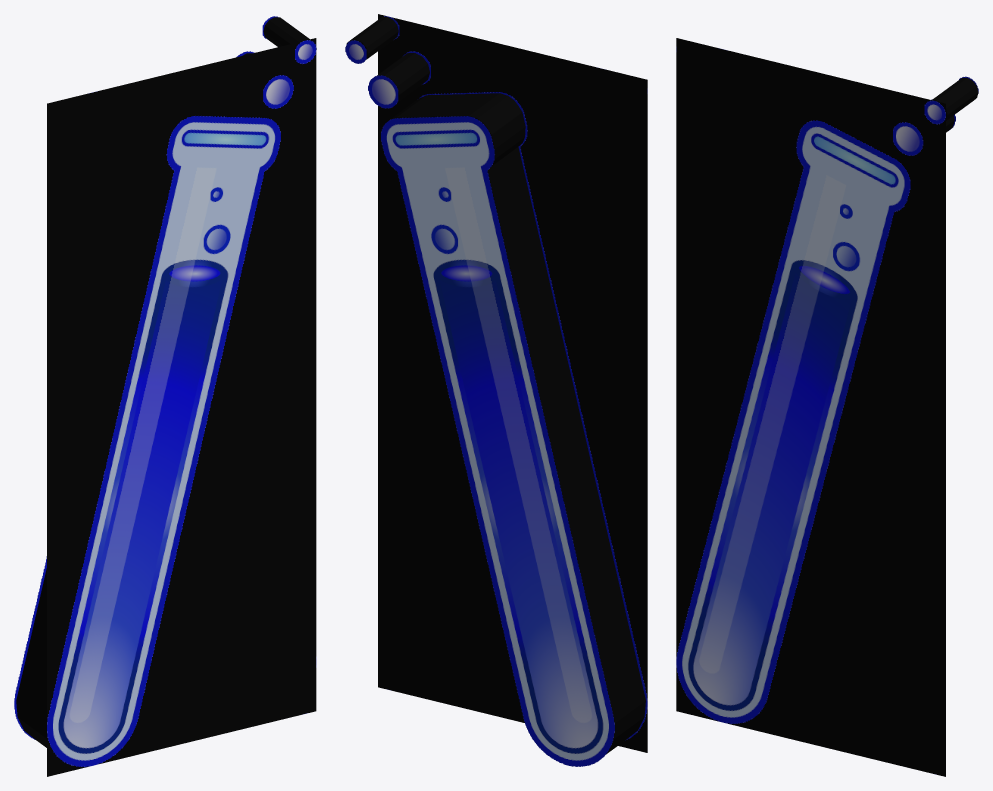
Rendered from item_m1.fbx.
3 renders of one model, left to right at view 1: azimuth 30°, elevation 25°; view 2: azimuth 150°, elevation 25°; view 3: azimuth 330°, elevation 25°, orthographic.
Parts seen in each view (by area): view 1: mp; view 2: mp; view 3: mp.
Boxes of the visible parts, box(x1,y1,x2,y2) form: mp: box(14, 16, 316, 776); mp: box(345, 14, 647, 766); mp: box(676, 38, 978, 776).
Bounding box in the file's own units: 3.57 × 8.5 × 0.7469.
3 materials, 2 textured.
